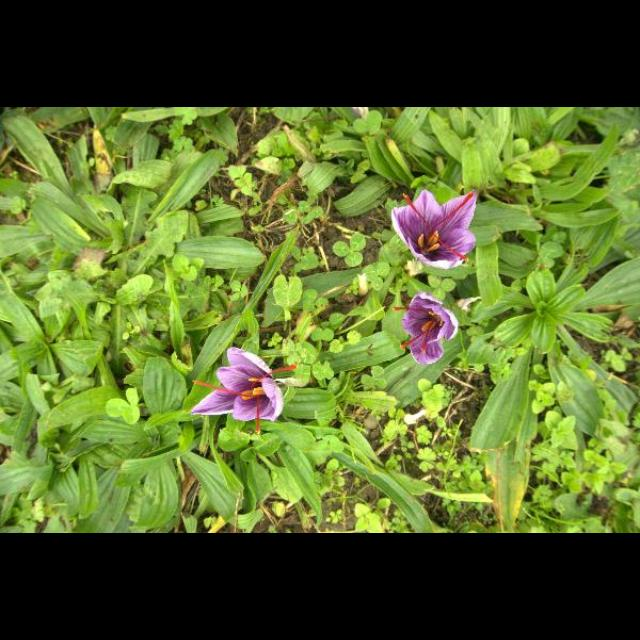flower: (188, 348, 296, 434), (392, 189, 478, 269), (392, 294, 458, 366)
